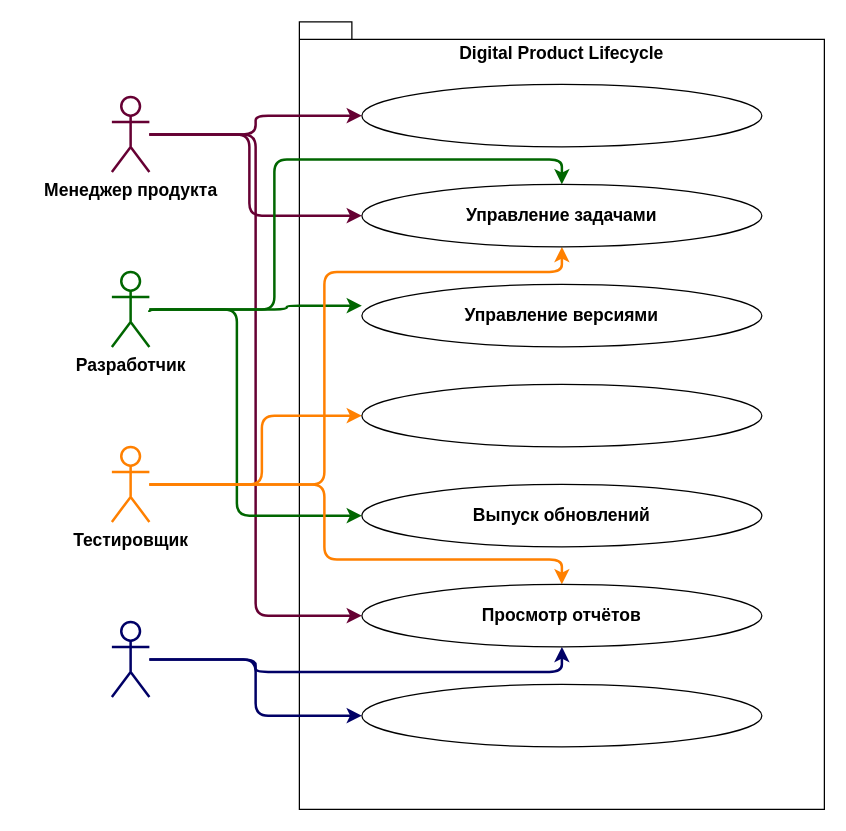
This 846x831 diagram has some shape labels left out. Here are the shapes that lost their labels. From the top down, the centre of each, then its label:
At (561,115): "Планирование продукта".
At (561,415): "Тестирование продукта".
At (130,659): "Администратор системы".
At (561,715): "Управление пользователями".
